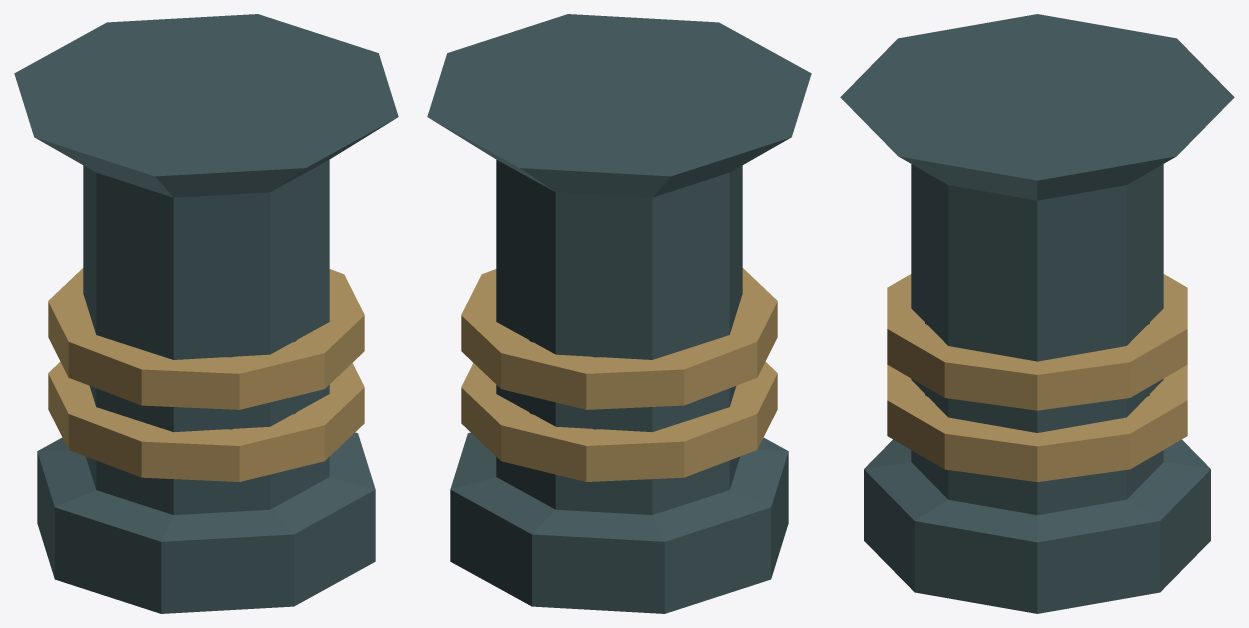
The model's file is bollard.glb.
3 views of the same model, side by side, from view 1: azimuth 30°, elevation 25°; view 2: azimuth 150°, elevation 25°; view 3: azimuth 270°, elevation 25° (orthographic).
Visible parts, largest first — view 1: bollard__body; view 2: bollard__body; view 3: bollard__body.
Boxes of the visible parts, x1,y1,x2,y2 form: bollard__body: (14, 14, 398, 613); bollard__body: (427, 14, 811, 613); bollard__body: (840, 14, 1234, 613).
Size of the model in its own units: 0.5 by 0.62 by 0.5.
